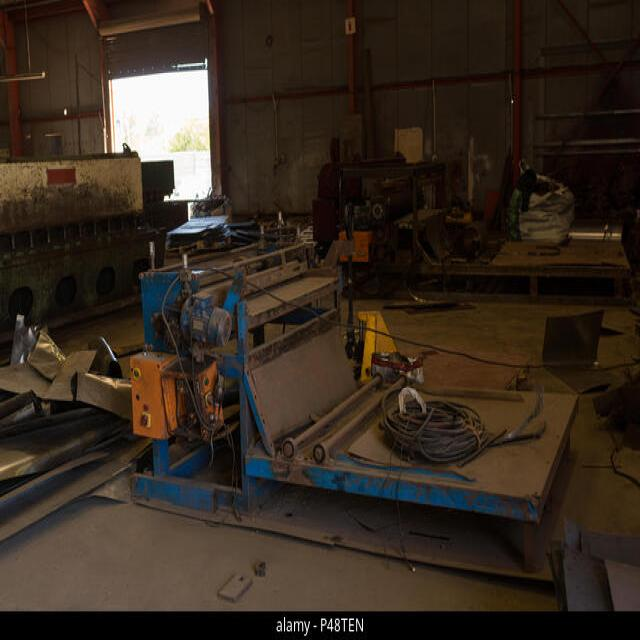metal: (144, 276, 259, 500)
